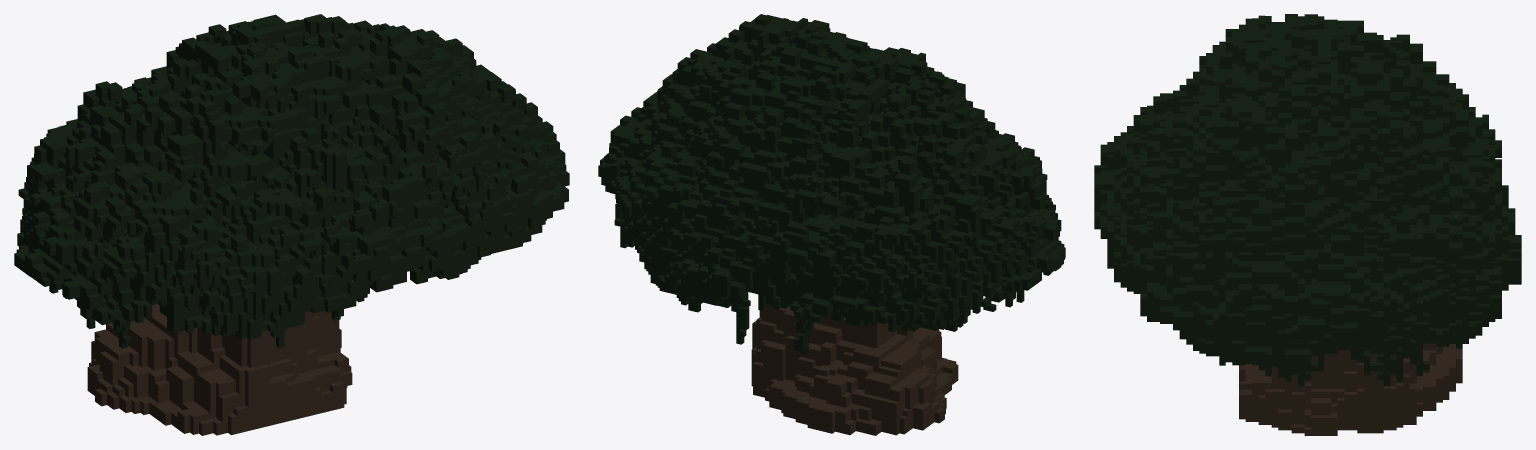
File: Vorexinha.obj
3 renders of one model, left to right at view 1: azimuth 30°, elevation 25°; view 2: azimuth 150°, elevation 25°; view 3: azimuth 270°, elevation 25°, orthographic. The views are drawn at different scales.
Bounding box in the file's own units: 8.9 × 6 × 6.5.
Materials: 1 (1 with a texture image).
